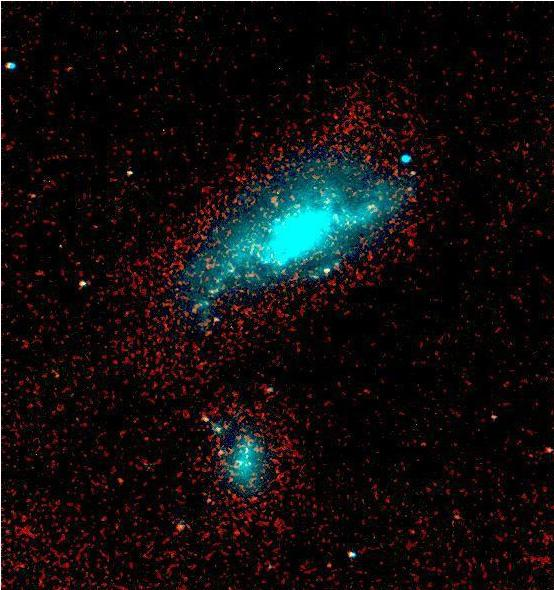star: (401, 154, 431, 184)
